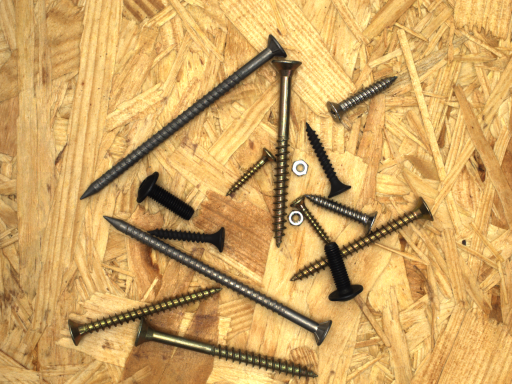screw_long: (57, 20, 303, 223), (83, 192, 347, 360)
